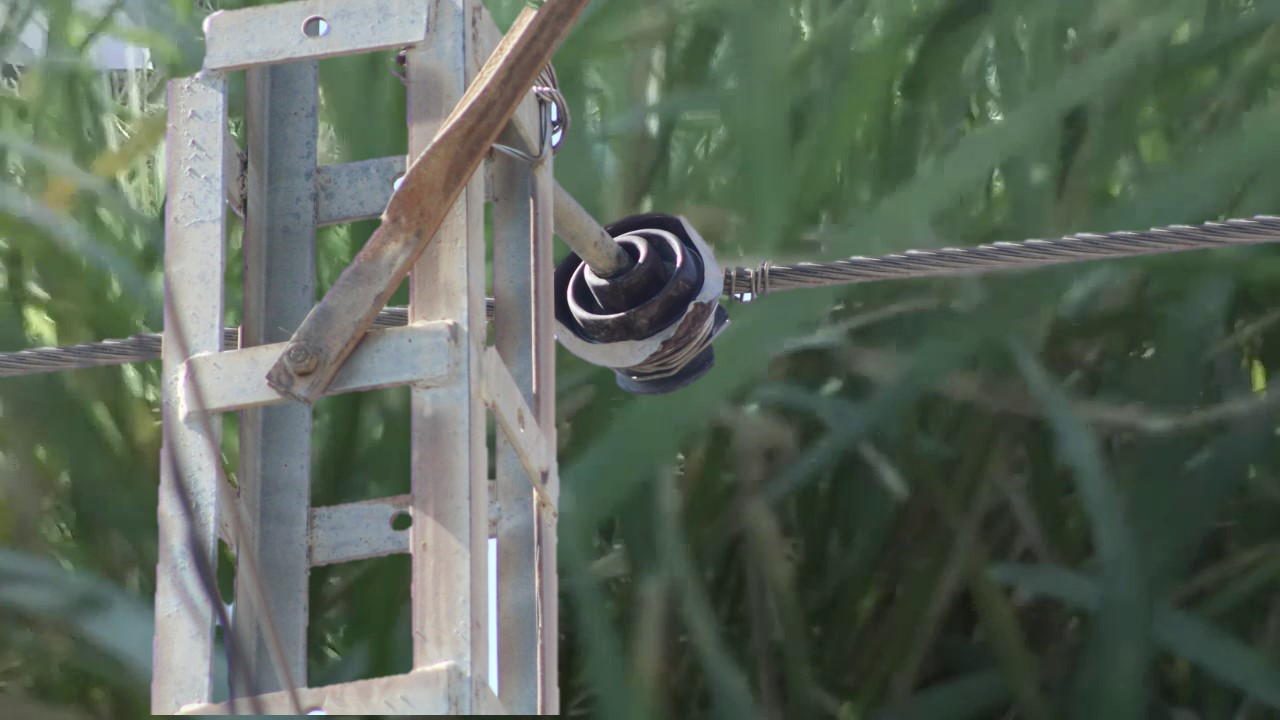defect_pin: (550, 213, 737, 405)
